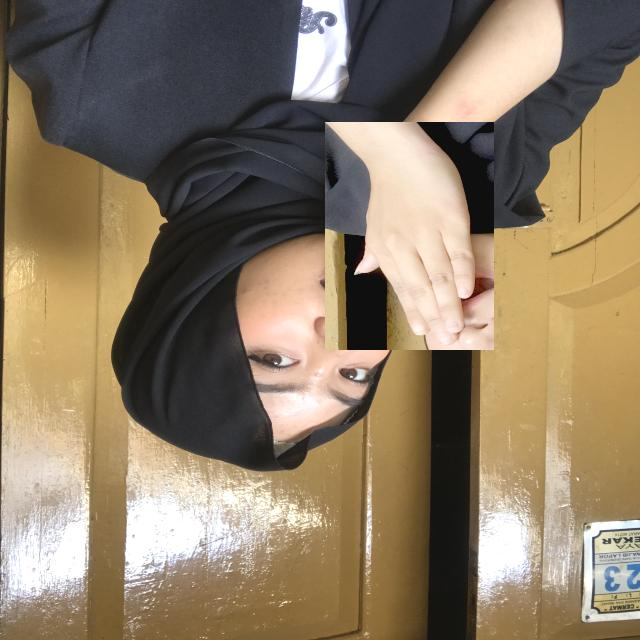ngantuk: (325, 122, 494, 350)
